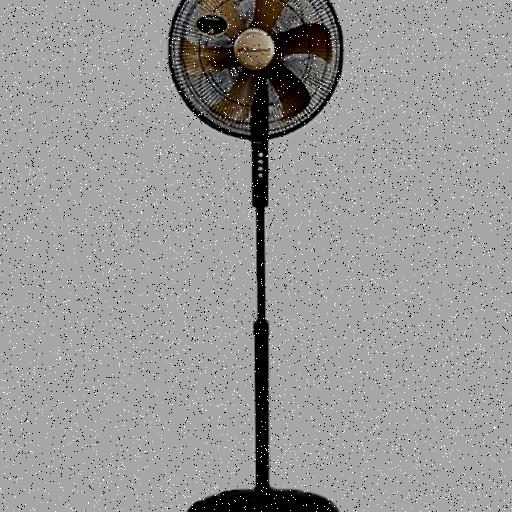Fan: (168, 0, 343, 141)
